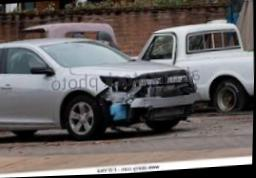Bumper: (126, 89, 202, 128)
Light: (103, 74, 138, 98)
